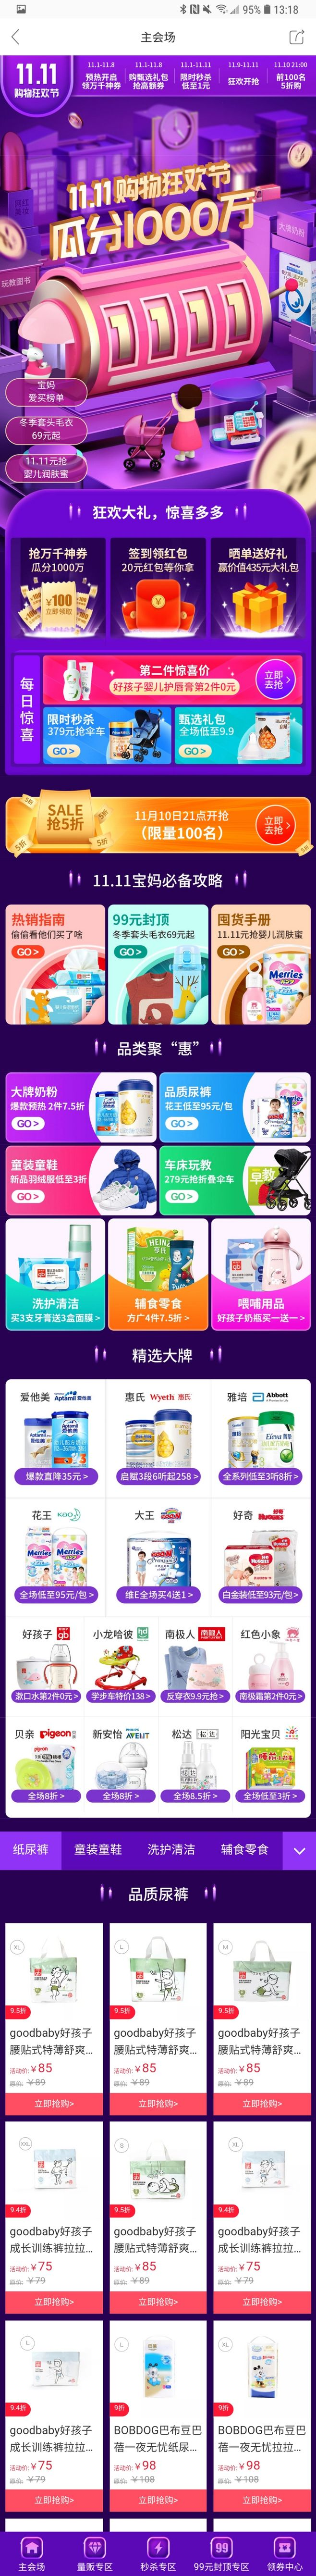floors: (2, 1881, 314, 2515), (2, 1341, 316, 1820), (2, 1037, 314, 1332), (0, 490, 316, 779), (0, 869, 316, 1028)
toutu: (0, 56, 316, 486)
